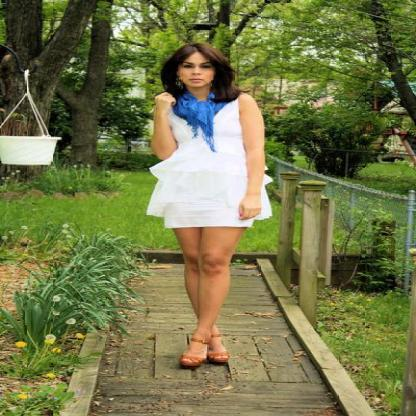dress: (146, 99, 272, 228)
shoe: (175, 356, 229, 376)
